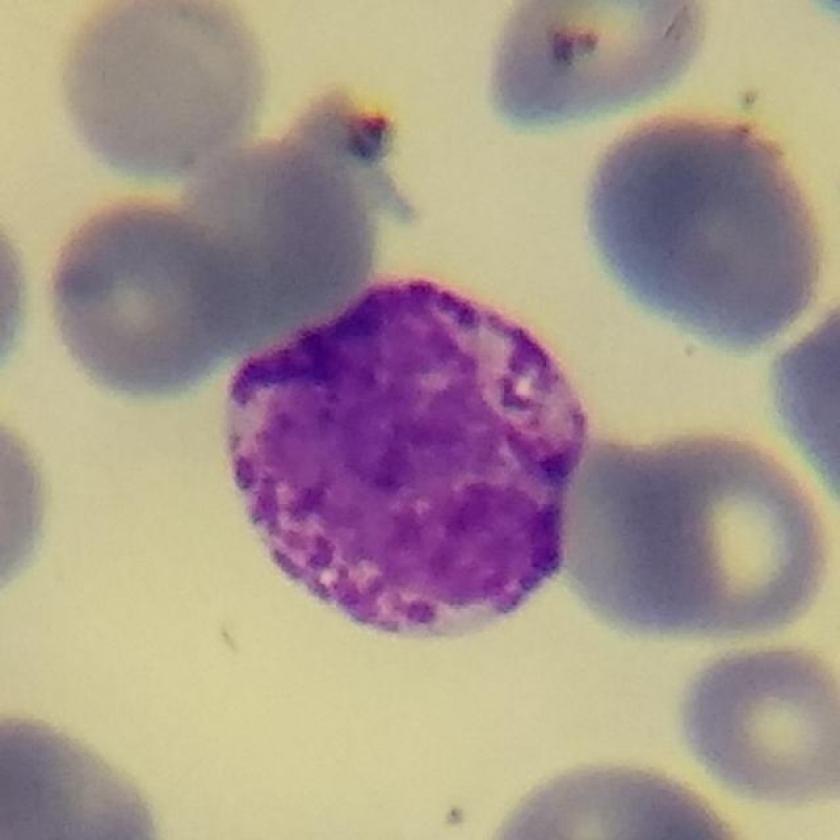basophil: (224, 273, 597, 643)
